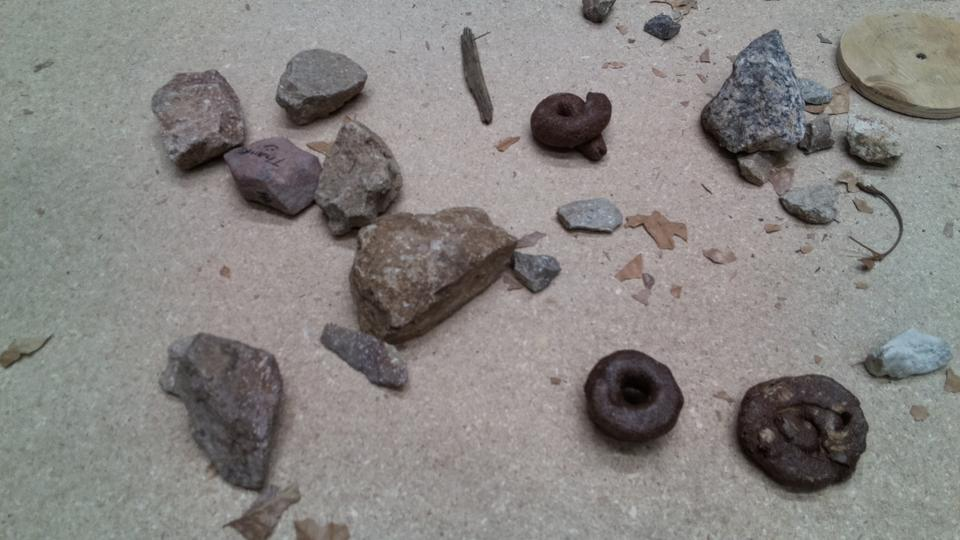poop: (734, 373, 872, 496), (582, 345, 687, 449), (528, 90, 617, 163)
